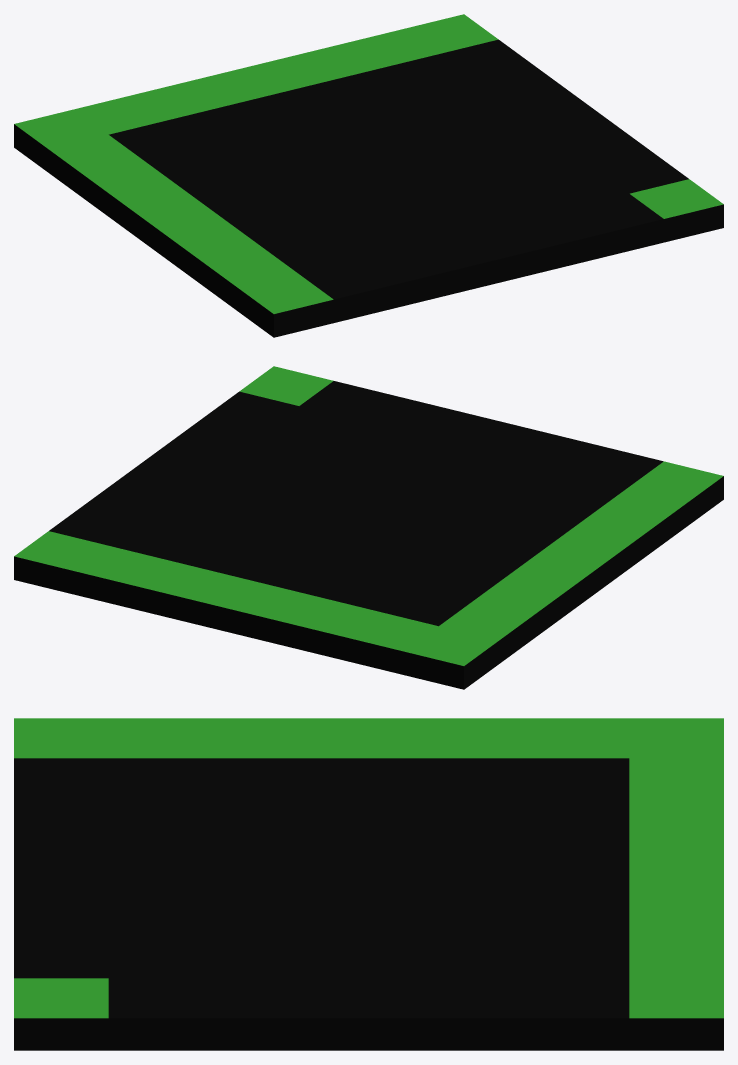
Rendered from turn_road.fbx.
3 renders of one model, top to bottom at view 1: azimuth 30°, elevation 25°; view 2: azimuth 150°, elevation 25°; view 3: azimuth 270°, elevation 25°, orthographic. The views are drawn at different scales.
Visible parts, largest first — view 1: Cube; view 2: Cube; view 3: Cube.
Part boxes in pixels (x1,y1,x2,y2): Cube: [14, 14, 723, 337]; Cube: [14, 366, 723, 689]; Cube: [14, 718, 723, 1050].
Size of the model in its own units: 200 by 10 by 200.
